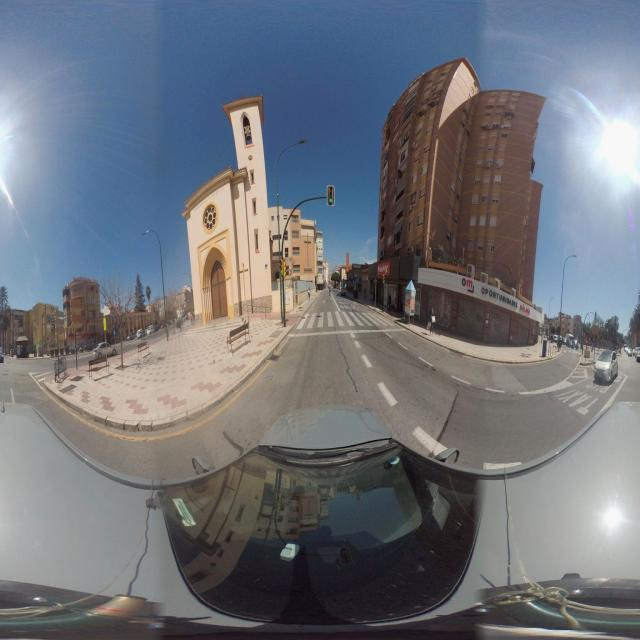car: (594, 350, 618, 384), (94, 341, 112, 355), (635, 347, 640, 362)
